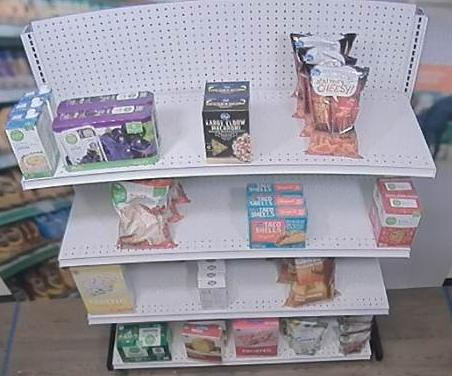stockout: (360, 68, 436, 166), (250, 71, 307, 164), (178, 180, 247, 248), (308, 177, 372, 245), (56, 187, 115, 256), (154, 83, 204, 162), (130, 263, 195, 310), (227, 258, 282, 309), (336, 259, 388, 308)
